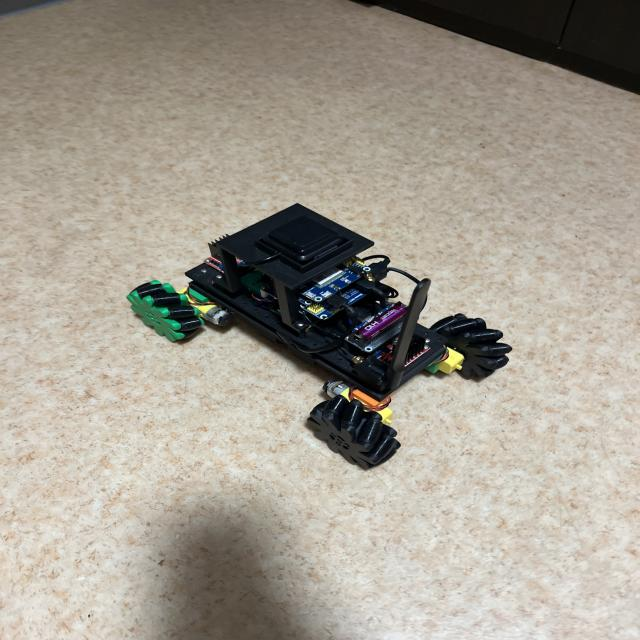robot: (127, 204, 512, 468)
